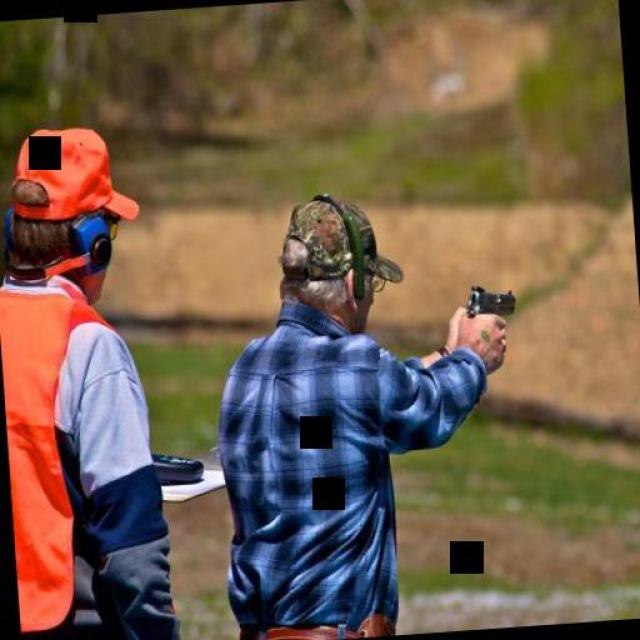gun: (460, 272, 518, 332)
